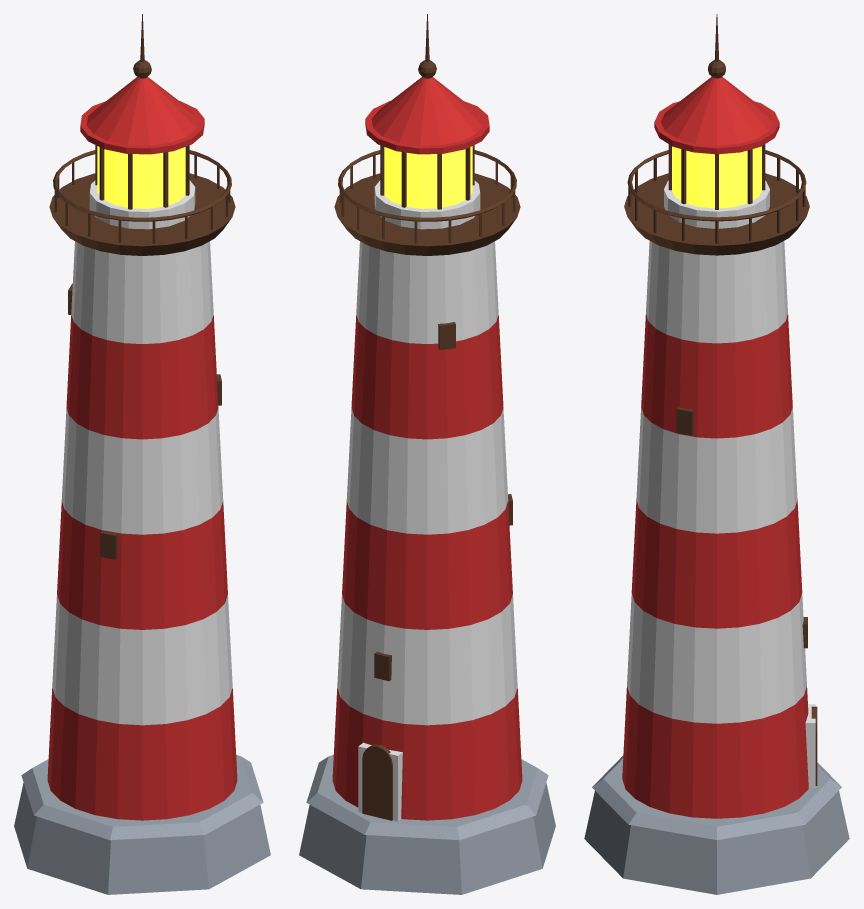
The model's file is LIGHTHOUSE.glb.
3 views of the same model, side by side, from view 1: azimuth 30°, elevation 25°; view 2: azimuth 150°, elevation 25°; view 3: azimuth 270°, elevation 25° (orthographic).
Visible parts, largest first — view 1: PropRed, PropWhite, Stone, WoodDark, Glow; view 2: PropRed, PropWhite, Stone, WoodDark, Glow; view 3: PropRed, PropWhite, Stone, WoodDark, Glow.
Part boxes in pixels (x1,y1,x2,y2): PropRed: (47, 76, 237, 820); PropWhite: (52, 180, 232, 725); Stone: (14, 755, 270, 894); WoodDark: (49, 14, 235, 559); Glow: (97, 146, 185, 208); PropRed: (332, 76, 522, 820); PropWhite: (337, 180, 517, 821); Stone: (299, 755, 555, 894); WoodDark: (334, 14, 520, 820); Glow: (384, 146, 472, 208); PropRed: (622, 76, 808, 818); PropWhite: (627, 180, 815, 788); Stone: (584, 755, 849, 894); WoodDark: (624, 14, 817, 785); Glow: (672, 146, 761, 208).
Bounding box in the file's own units: 14 × 48 × 14.
